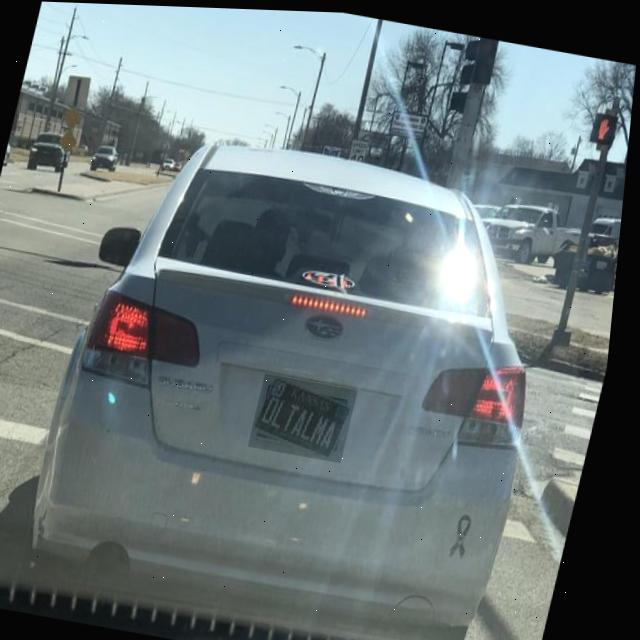LicensePlate: (260, 373, 362, 458)
